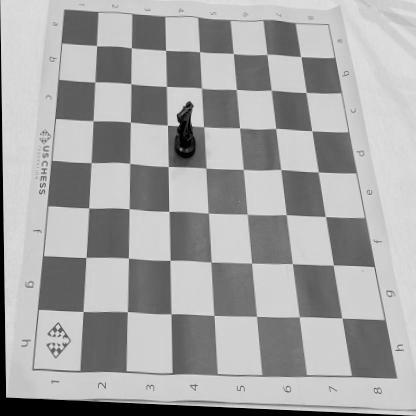black-knight: (172, 103, 196, 162)
